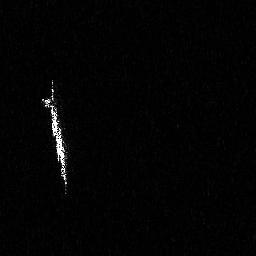ship: (40, 76, 74, 199)
